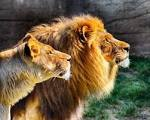lion: (18, 13, 131, 120), (1, 38, 73, 120)
